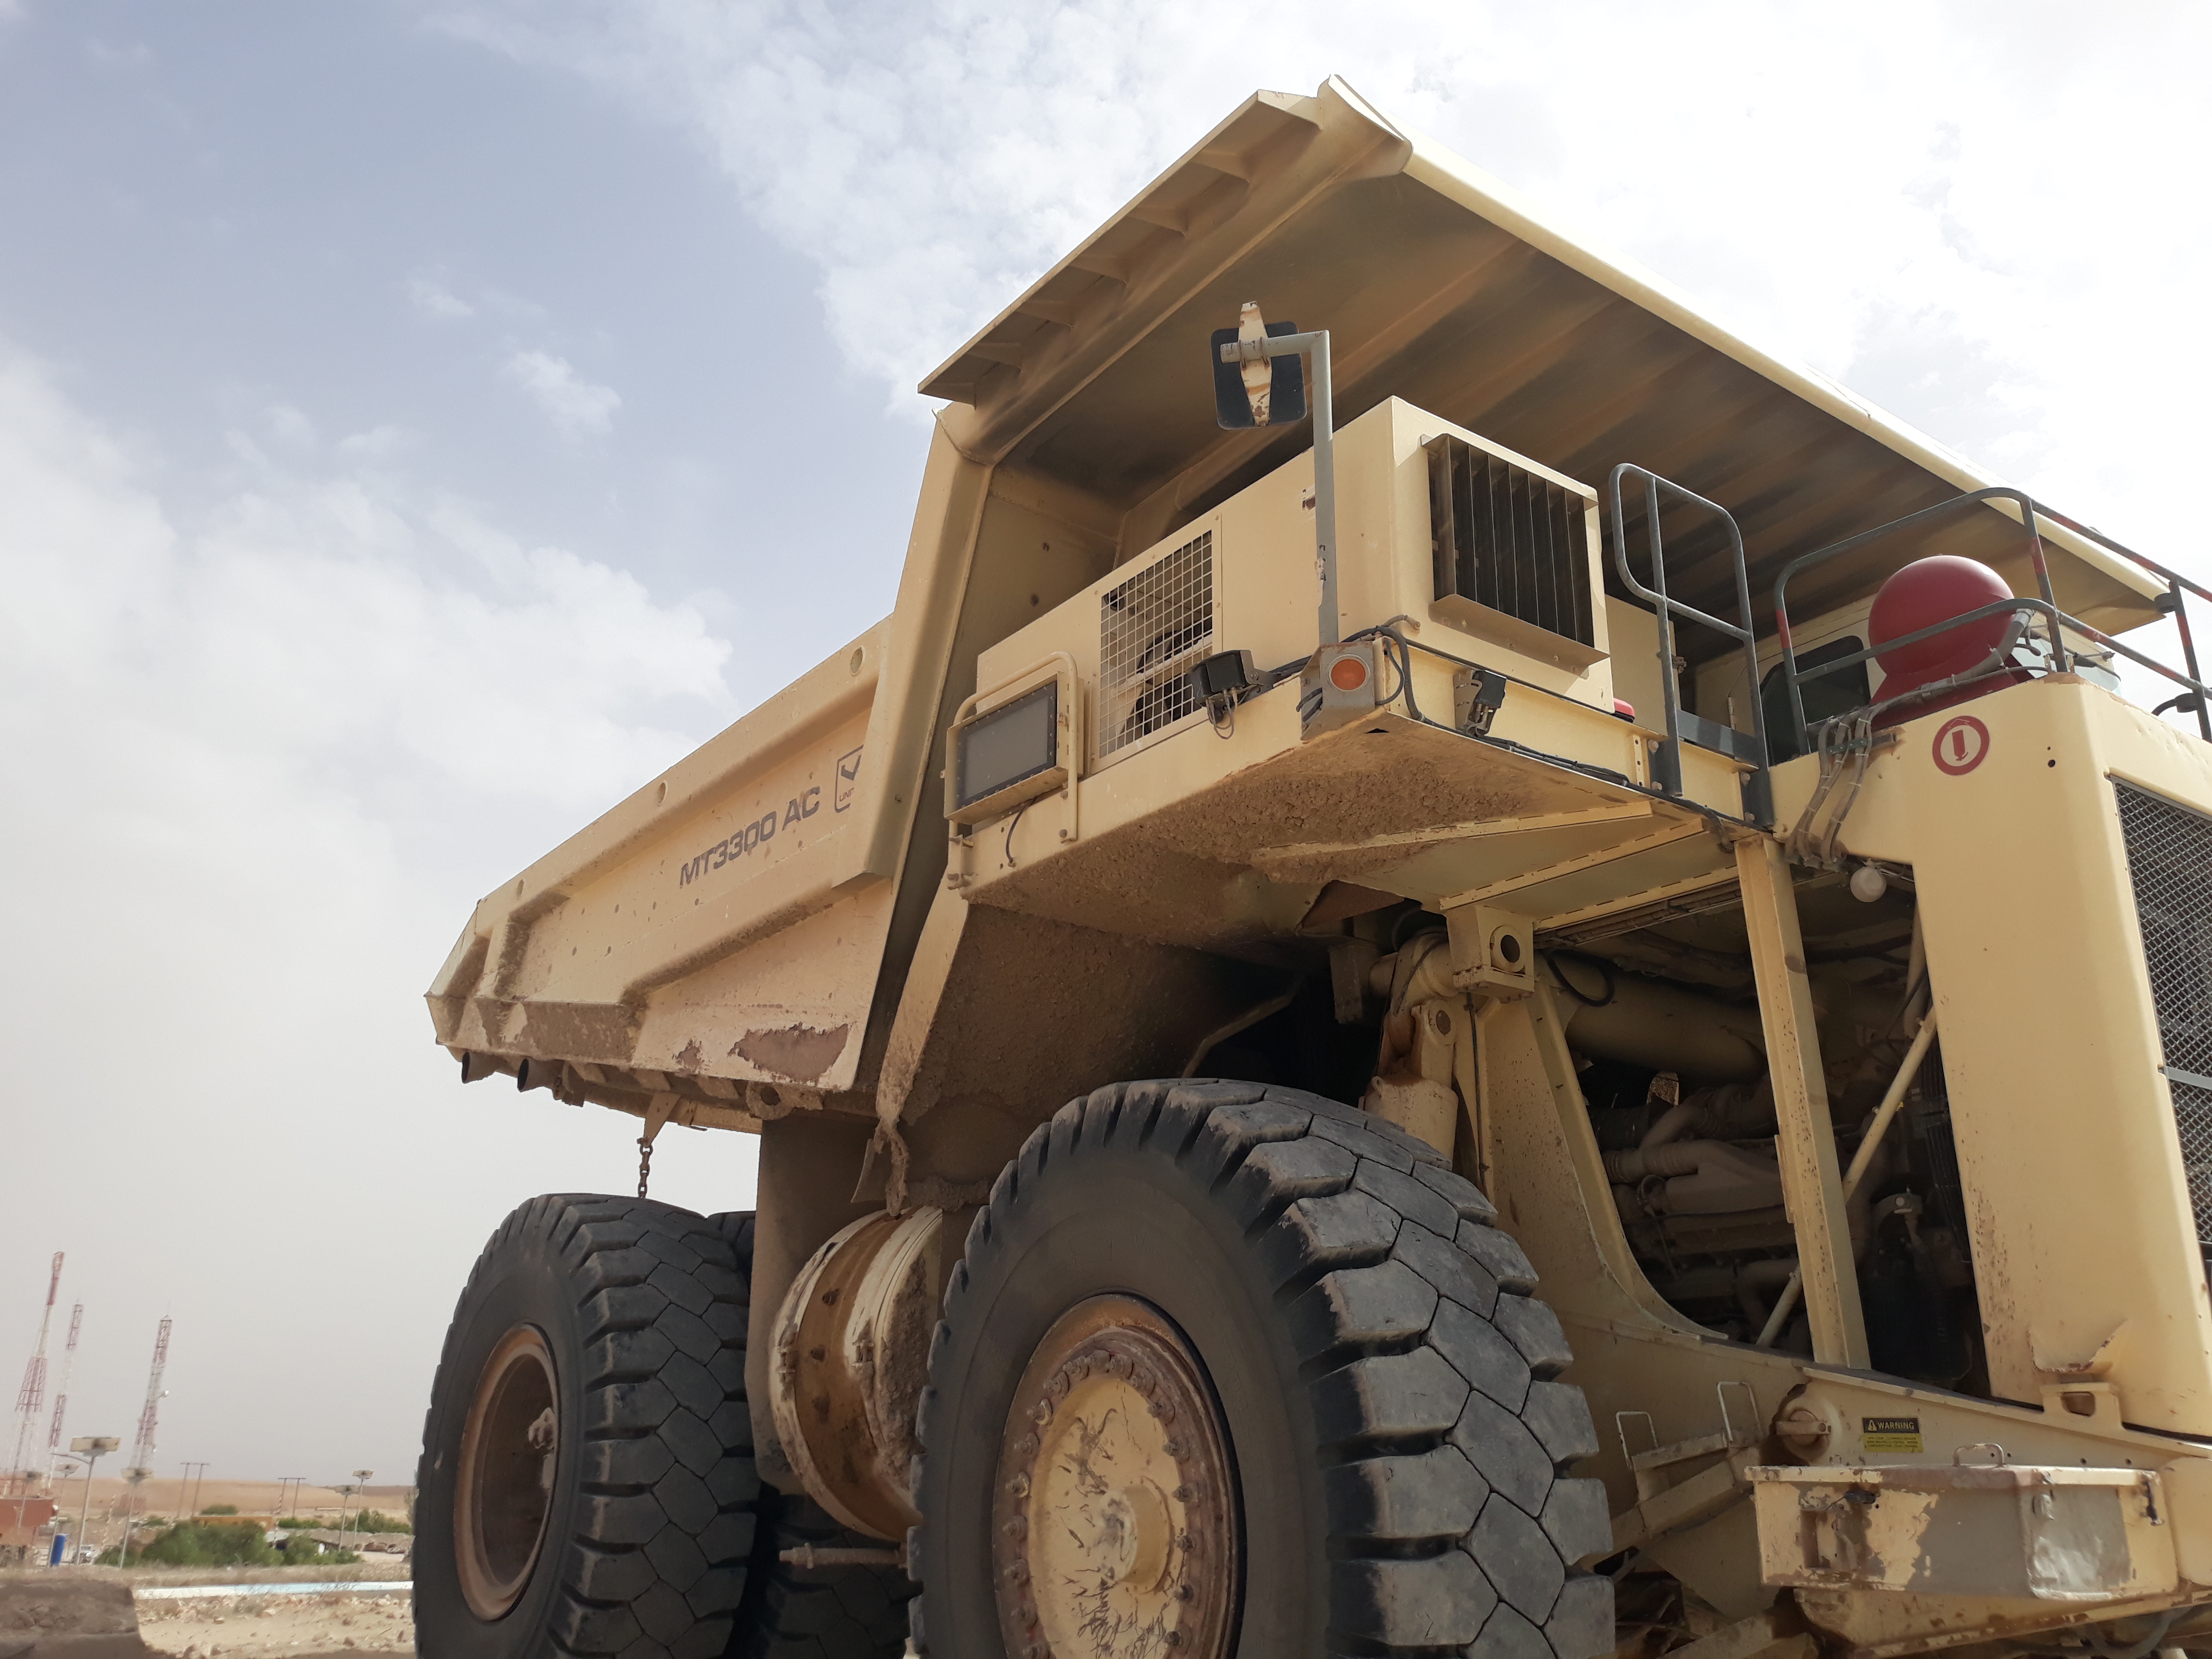camion: (399, 82, 2212, 1656)
